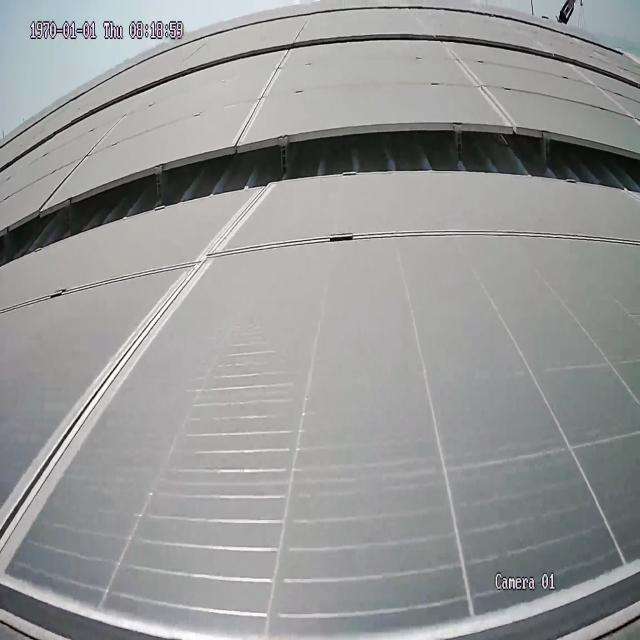interior panel: (0, 208, 254, 555), (266, 557, 640, 640), (0, 565, 250, 638), (47, 112, 127, 196), (446, 51, 516, 115), (234, 55, 288, 137)
outher panel: (2, 122, 637, 272)
